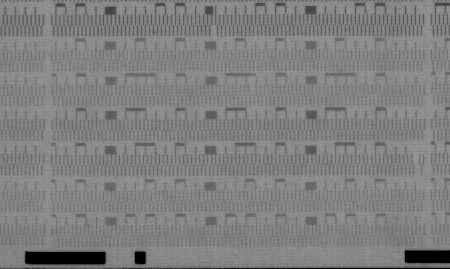Broken hole: (410, 153, 424, 176), (208, 24, 220, 37)
